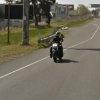Motorcycle: (44, 31, 69, 68)
